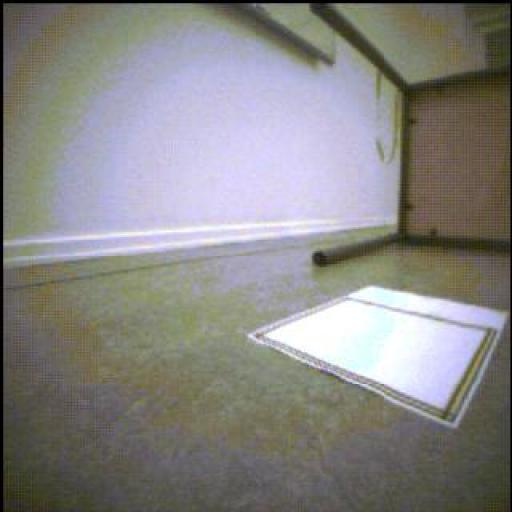Pad: (251, 288, 508, 429)
